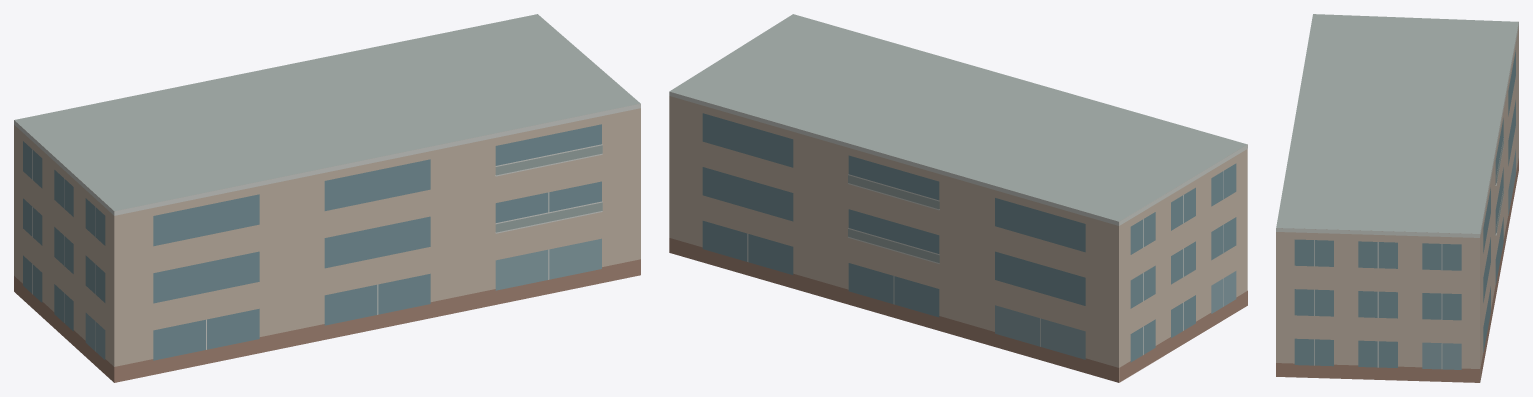
Rendered from survey-upis-32871580.glb.
The picture shows the model from 3 angles, left to right: view 1: azimuth 30°, elevation 25°; view 2: azimuth 150°, elevation 25°; view 3: azimuth 270°, elevation 25°; orthographic projection. The views are drawn at different scales.
Visible parts, largest first — view 1: survey-upis-32871580.tmp; view 2: survey-upis-32871580.tmp; view 3: survey-upis-32871580.tmp.
Part boxes in pixels (box(x1,y1,x2,y2)): survey-upis-32871580.tmp: box(14, 14, 640, 382); survey-upis-32871580.tmp: box(669, 14, 1247, 382); survey-upis-32871580.tmp: box(1276, 14, 1518, 382).
Bounding box in the file's own units: 29.01 × 9.15 × 13.53.
